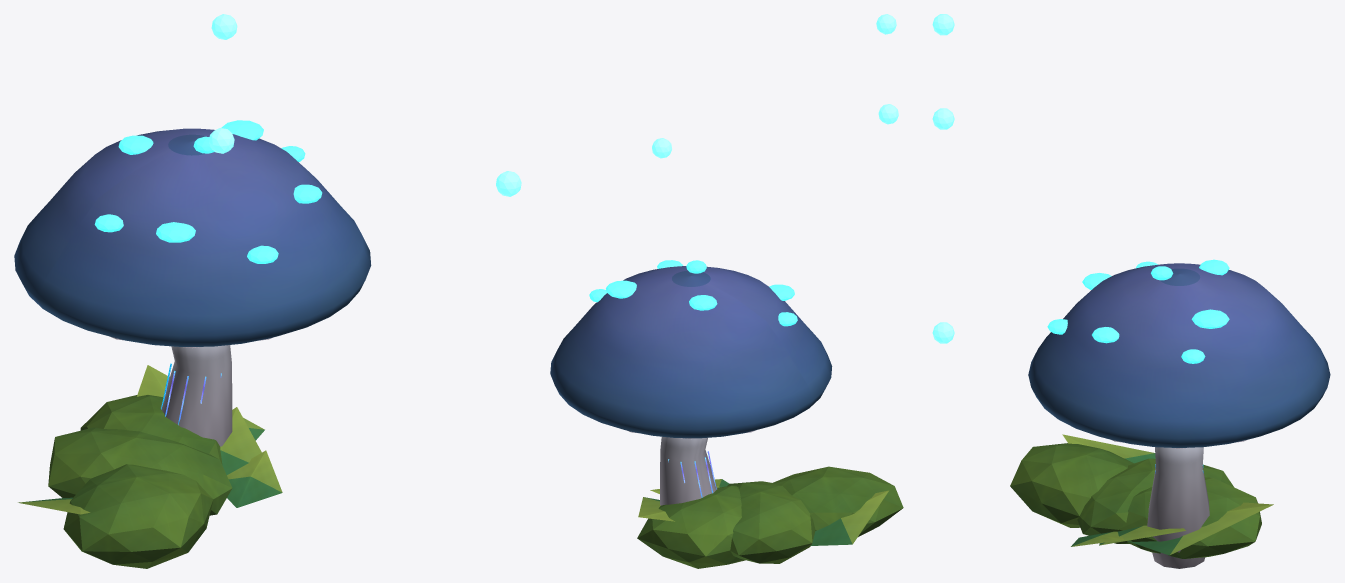
The model's file is forest_mushroom_small.glb.
3 views of the same model, side by side, from view 1: azimuth 30°, elevation 25°; view 2: azimuth 150°, elevation 25°; view 3: azimuth 270°, elevation 25° (orthographic). The views are drawn at different scales.
Visible parts, largest first — view 1: Broad faceted mushroom cap.002, Woodland shared moss cushion.025, Woodland shared moss cushion.027, Curving luminous mushroom stem.002, Woodland shared moss cushion.028, Woodland shared curved ivy leaf.086, Woodland shared curved ivy leaf.085, Woodland shared curved ivy leaf.088, Bioluminescent cap spot.016; view 2: Broad faceted mushroom cap.002, Woodland shared moss cushion.028, Woodland shared moss cushion.027, Woodland shared moss cushion.025, Curving luminous mushroom stem.002, Woodland shared curved ivy leaf.087, Woodland shared curved ivy leaf.088, Bioluminescent cap spot.020; view 3: Broad faceted mushroom cap.002, Woodland shared moss cushion.025, Curving luminous mushroom stem.002, Woodland shared moss cushion.028, Woodland shared moss cushion.027, Woodland shared curved ivy leaf.088, Woodland shared curved ivy leaf.087, Woodland shared curved ivy leaf.085, Bioluminescent cap spot.020.
Part boxes in pixels (box(x1,y1,x2,y2)): Broad faceted mushroom cap.002: box(14, 128, 371, 346); Woodland shared moss cushion.025: box(63, 464, 213, 568); Woodland shared moss cushion.027: box(48, 427, 232, 515); Curving luminous mushroom stem.002: box(160, 345, 232, 446); Woodland shared moss cushion.028: box(80, 395, 222, 464); Woodland shared curved ivy leaf.086: box(227, 450, 282, 507); Woodland shared curved ivy leaf.085: box(220, 407, 261, 474); Woodland shared curved ivy leaf.088: box(137, 365, 264, 440); Bioluminescent cap spot.016: box(156, 222, 195, 242); Broad faceted mushroom cap.002: box(550, 266, 832, 438); Woodland shared moss cushion.028: box(637, 485, 745, 568); Woodland shared moss cushion.027: box(727, 481, 815, 563); Woodland shared moss cushion.025: box(773, 466, 903, 536); Curving luminous mushroom stem.002: box(660, 436, 717, 505); Woodland shared curved ivy leaf.087: box(810, 490, 888, 545); Woodland shared curved ivy leaf.088: box(638, 497, 674, 521); Bioluminescent cap spot.020: box(606, 280, 636, 298); Broad faceted mushroom cap.002: box(1028, 263, 1330, 447); Woodland shared moss cushion.025: box(1010, 443, 1133, 527); Curving luminous mushroom stem.002: box(1147, 447, 1209, 568); Woodland shared moss cushion.028: box(1119, 477, 1261, 558); Woodland shared moss cushion.027: box(1077, 458, 1233, 543); Woodland shared curved ivy leaf.088: box(1127, 502, 1273, 555); Woodland shared curved ivy leaf.087: box(1062, 434, 1155, 463); Woodland shared curved ivy leaf.085: box(1099, 525, 1185, 545); Bioluminescent cap spot.020: box(1191, 309, 1229, 328).
Size of the model in its own units: 0.5936 by 0.898 by 0.6416.
Materials: 8 (6 with a texture image).
